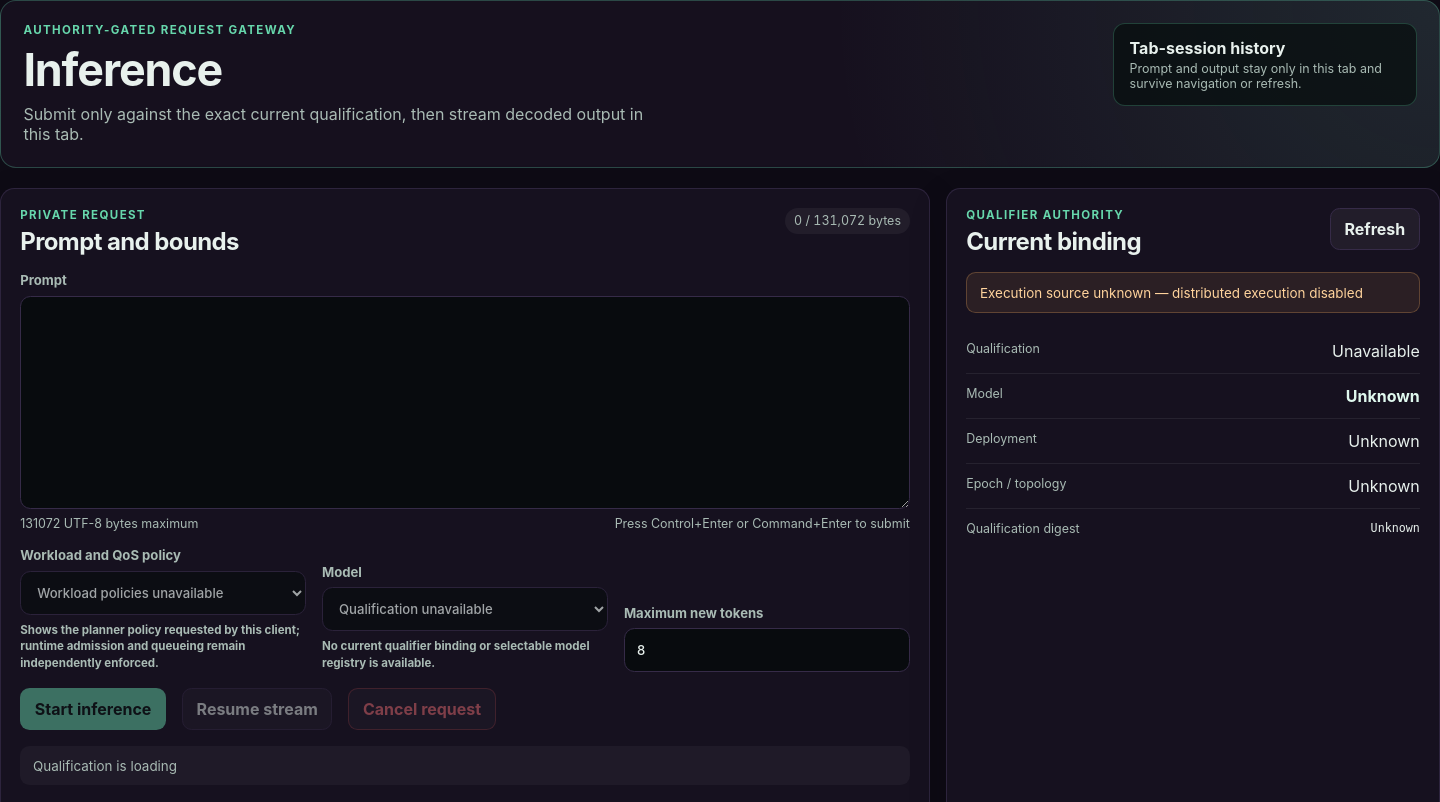
InferenceWorkspace › exposes stream resume and cancellation as keyboard-operable buttons
In the text box labelled "Prompt": (465, 402) [20, 296, 910, 509], type "synthetic input"
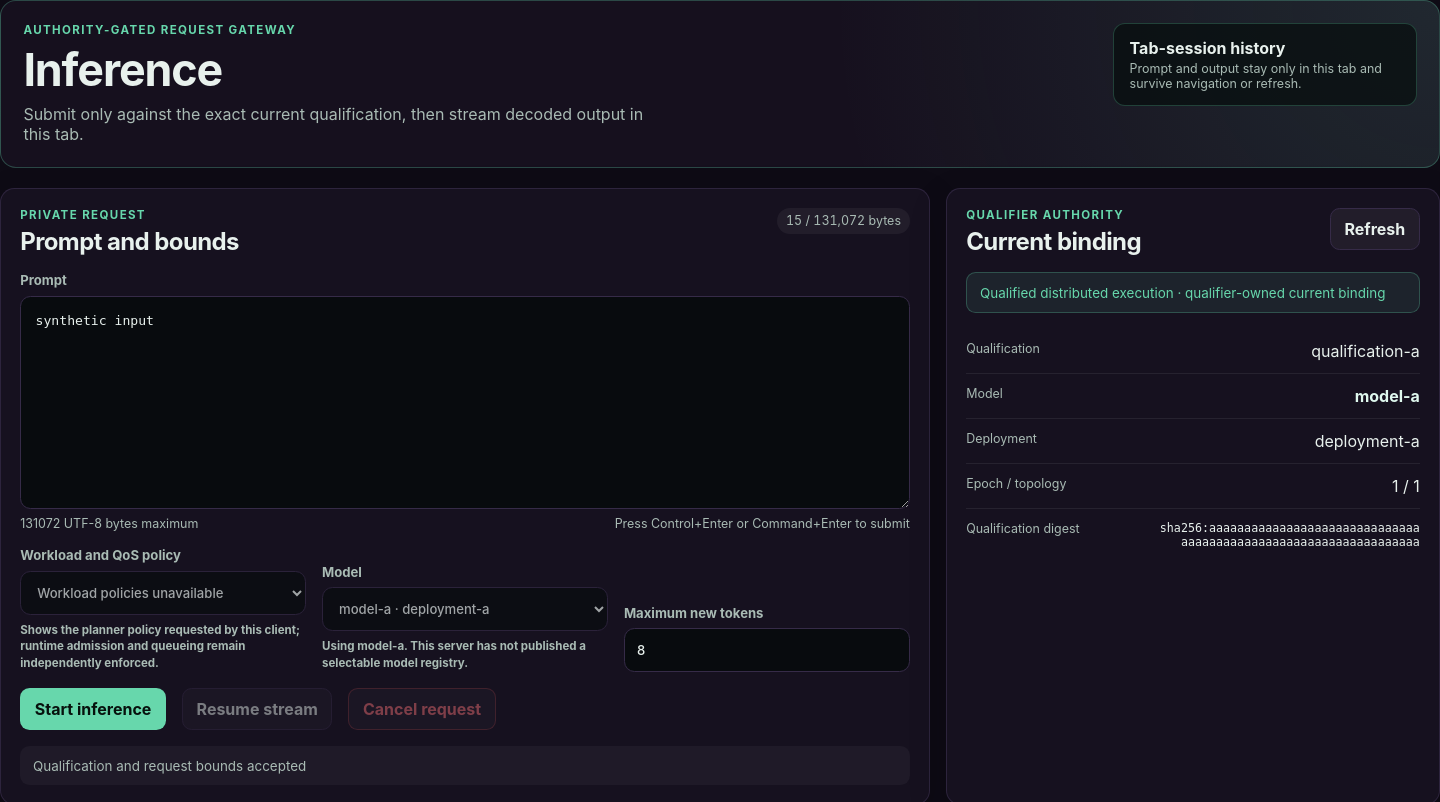
Result: the button "Start inference" is enabled
Click the button "Start inference": (93, 709) [20, 688, 166, 730]
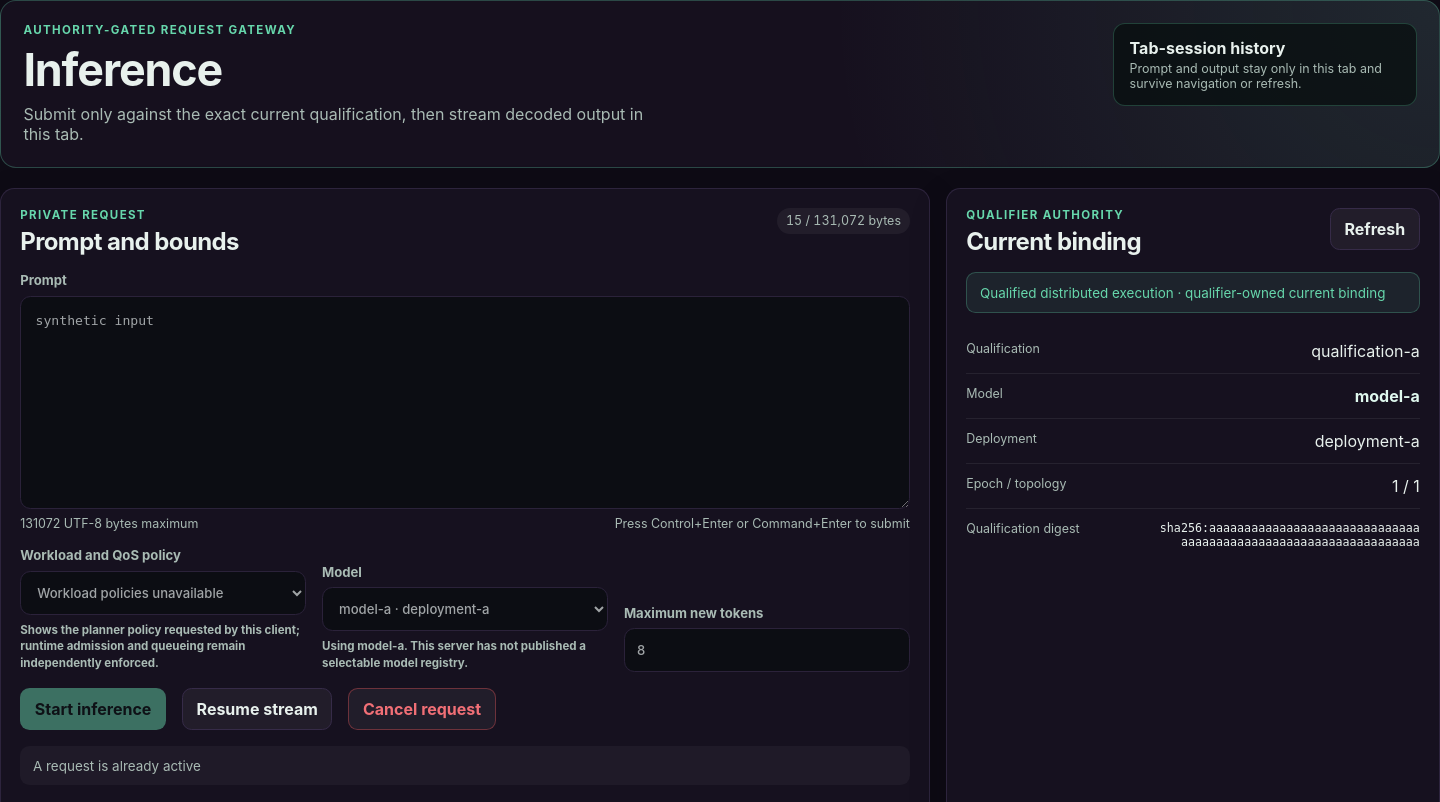
Result: the button "Resume stream" is enabled at [182, 688, 332, 730]
Result: the button "Cancel request" is enabled at [348, 688, 496, 730]
